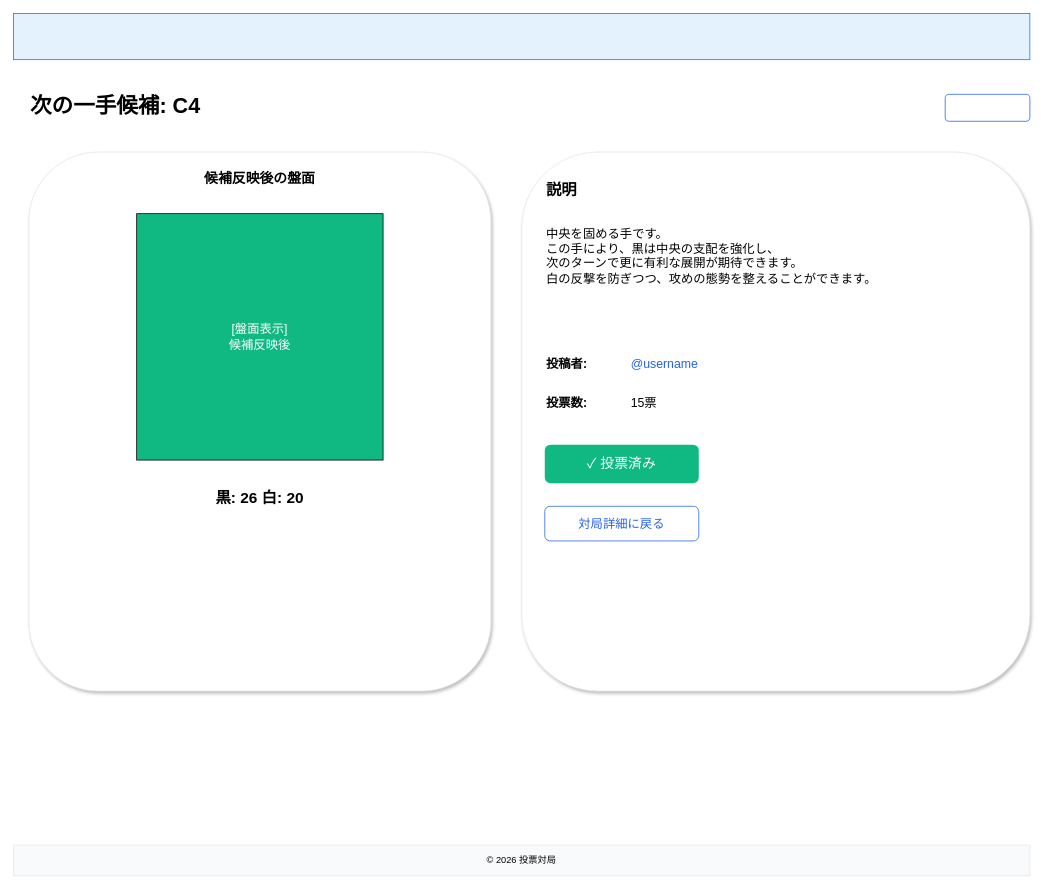
This 1048x889 diagram has some shape labels left out. The centre of each missing label's shape, as x and y in pixels:
"[ロゴ] 投票対局" goes at (521,36).
"シェア" goes at (987,107).
